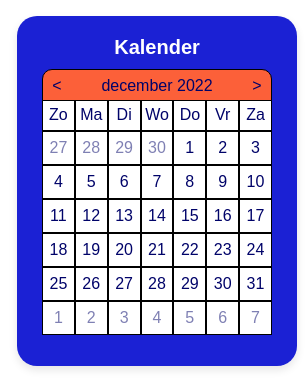
MiniKalender component › should go forward from December to January of the next year
Click the button ">" at coordinates (257, 85), box [252,76,262,94]
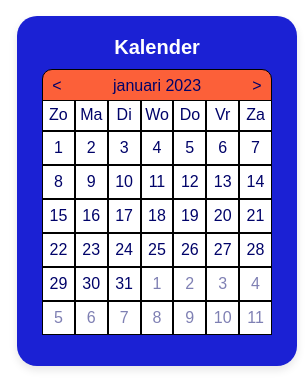
Expected: the text "januari 2023" is shown, [113,77,201,94]
